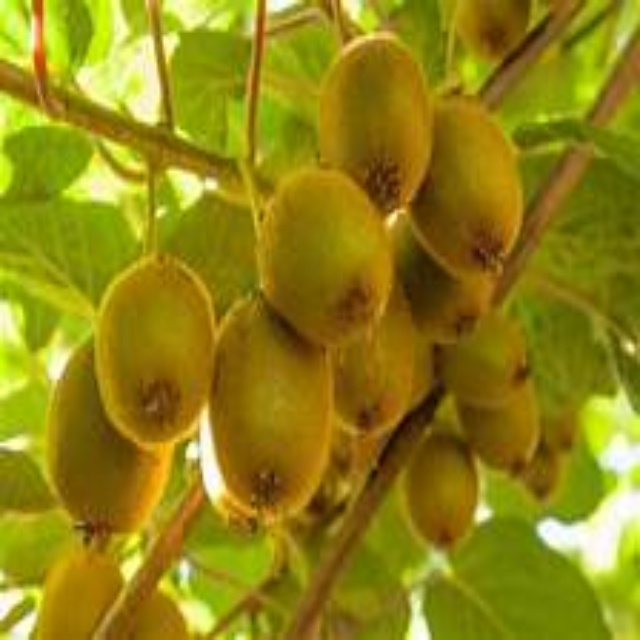kiwi: (212, 299, 336, 541), (41, 341, 176, 545), (98, 247, 230, 451), (259, 171, 390, 347), (414, 105, 528, 274), (319, 36, 433, 199), (436, 305, 537, 473), (409, 431, 476, 544)
